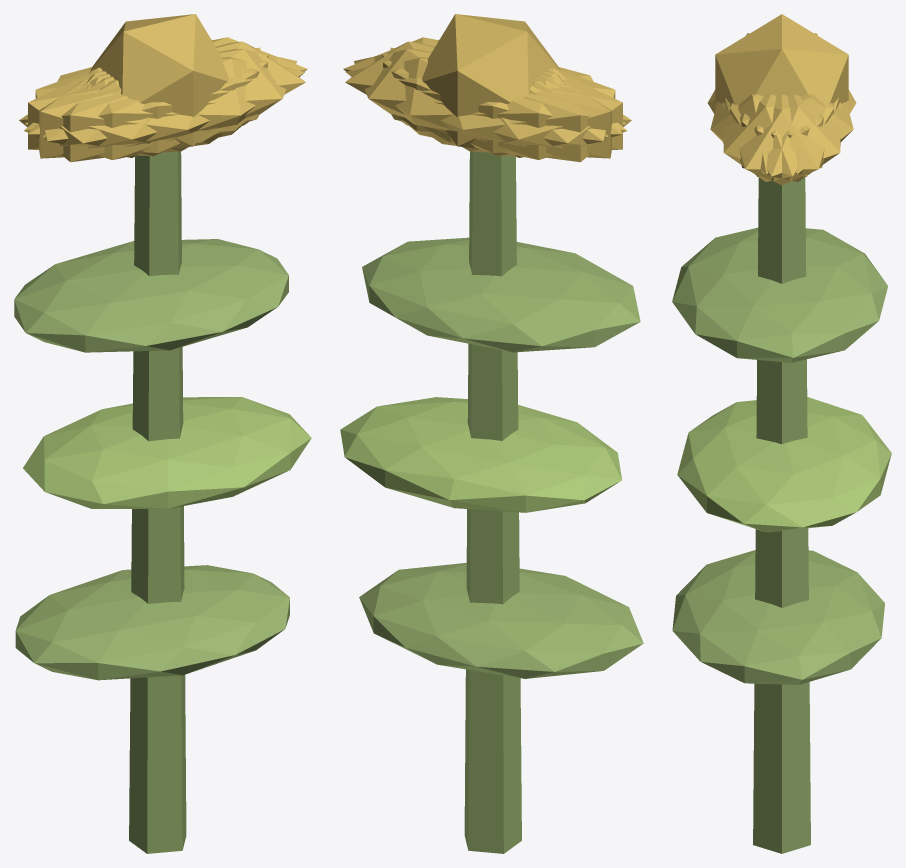
Rendered from trimezia-coerulea.glb.
3 renders of one model, left to right at view 1: azimuth 30°, elevation 25°; view 2: azimuth 150°, elevation 25°; view 3: azimuth 270°, elevation 25°, orthographic.
Visible parts, largest first — view 1: stem, leaf2, leaf0, leaf1, center, petal1, petal6, petal2, petal5, petal7, petal0, petal4 (+2 smaller); view 2: stem, leaf1, leaf2, leaf0, center, petal8, petal3, petal7, petal4, petal2, petal0, petal5 (+2 smaller); view 3: stem, leaf1, leaf2, leaf0, center, petal0, petal5, petal4, petal8, petal1.
Boxes of the visible parts, x1=… form: stem: x1=129, y1=151, x2=186, y2=853; leaf2: x1=14, y1=239, x2=288, y2=352; leaf0: x1=15, y1=565, x2=289, y2=680; leaf1: x1=23, y1=397, x2=311, y2=508; center: x1=90, y1=14, x2=228, y2=148; petal1: x1=24, y1=56, x2=304, y2=159; petal6: x1=19, y1=69, x2=222, y2=162; petal2: x1=39, y1=47, x2=260, y2=158; petal5: x1=43, y1=48, x2=297, y2=152; petal7: x1=28, y1=53, x2=268, y2=156; petal0: x1=90, y1=41, x2=305, y2=143; petal4: x1=25, y1=37, x2=307, y2=134; stem: x1=464, y1=151, x2=521, y2=853; leaf1: x1=340, y1=397, x2=621, y2=512; leaf2: x1=362, y1=237, x2=640, y2=352; leaf0: x1=359, y1=563, x2=643, y2=678; center: x1=422, y1=14, x2=560, y2=148; petal8: x1=346, y1=56, x2=627, y2=159; petal3: x1=428, y1=69, x2=631, y2=162; petal7: x1=390, y1=47, x2=611, y2=158; petal4: x1=354, y1=48, x2=608, y2=152; petal2: x1=382, y1=53, x2=622, y2=156; petal0: x1=345, y1=41, x2=560, y2=142; petal5: x1=343, y1=37, x2=625, y2=134; stem: x1=753, y1=177, x2=810, y2=853; leaf1: x1=677, y1=397, x2=891, y2=532; leaf2: x1=672, y1=227, x2=887, y2=362; leaf0: x1=672, y1=550, x2=884, y2=684; center: x1=715, y1=14, x2=848, y2=105; petal0: x1=725, y1=94, x2=839, y2=185; petal5: x1=723, y1=94, x2=833, y2=181; petal4: x1=730, y1=94, x2=840, y2=181; petal8: x1=740, y1=94, x2=853, y2=173; petal1: x1=710, y1=94, x2=823, y2=173.
Size of the model in its own units: 0.1491 by 0.4102 by 0.1009.
